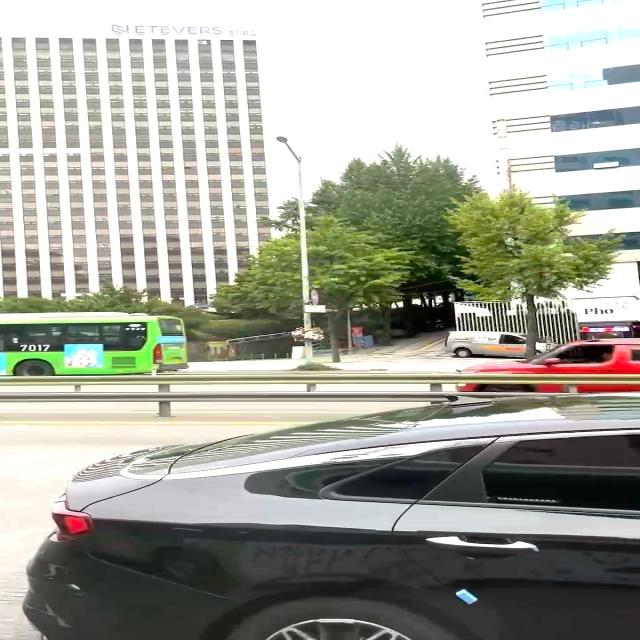building: (0, 36, 273, 314), (480, 0, 639, 342)
car: (21, 391, 639, 639), (0, 309, 201, 376), (453, 337, 639, 393), (432, 322, 554, 357)
